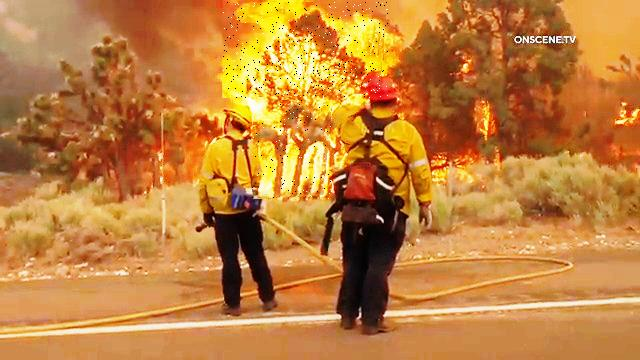fire: (222, 2, 388, 98), (252, 100, 333, 200)
